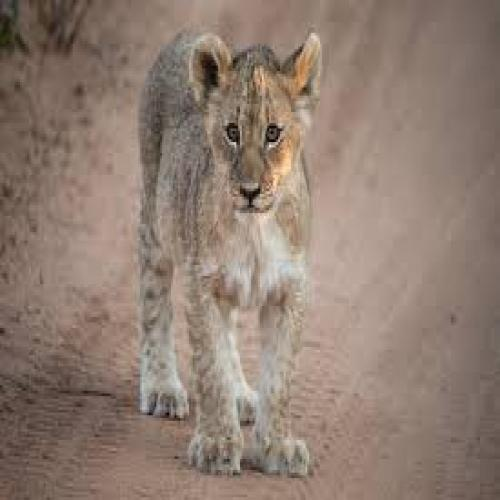lion-endangered: (139, 30, 321, 476)
